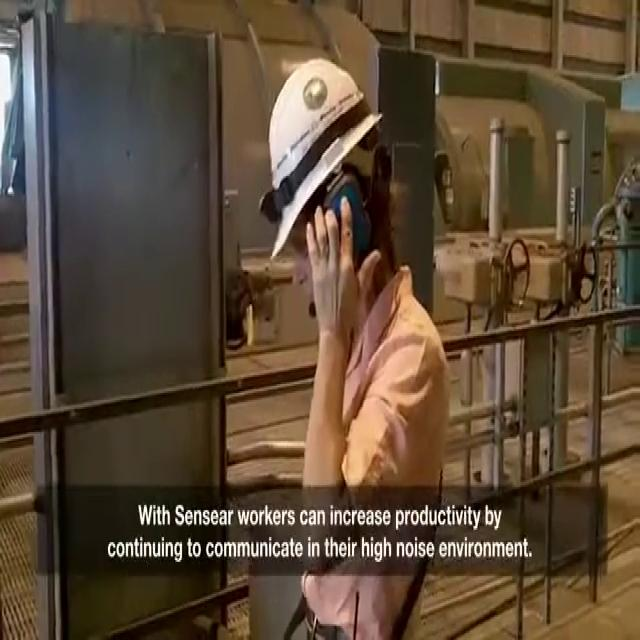earmuff: (321, 167, 374, 261)
helmet: (256, 54, 386, 262)
